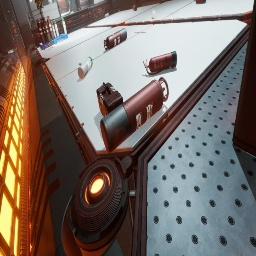0: (78, 57, 93, 79), (62, 15, 67, 34), (54, 18, 59, 37), (51, 20, 56, 38), (8, 49, 16, 54), (152, 10, 156, 19), (104, 13, 109, 18), (70, 11, 74, 14)
EmergencyPhone ,: (10, 20, 15, 27)
FireAlarm ,: (14, 28, 17, 34)
FireExtinguisher ]: (143, 51, 177, 75), (194, 0, 206, 4)
FirstAidBox ,: (96, 82, 124, 117), (47, 22, 48, 23)
NitrogenTank ,: (100, 77, 169, 154), (104, 28, 127, 50), (36, 19, 46, 44), (42, 17, 52, 42), (46, 16, 55, 40), (40, 18, 48, 42), (132, 5, 137, 11), (77, 8, 80, 11)
SafetySwitchPanel ,: (48, 0, 53, 4)
